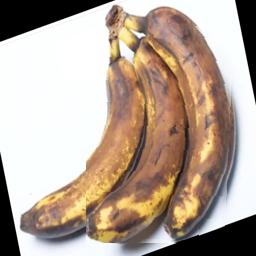Banana Rotten: (86, 23, 234, 244)
